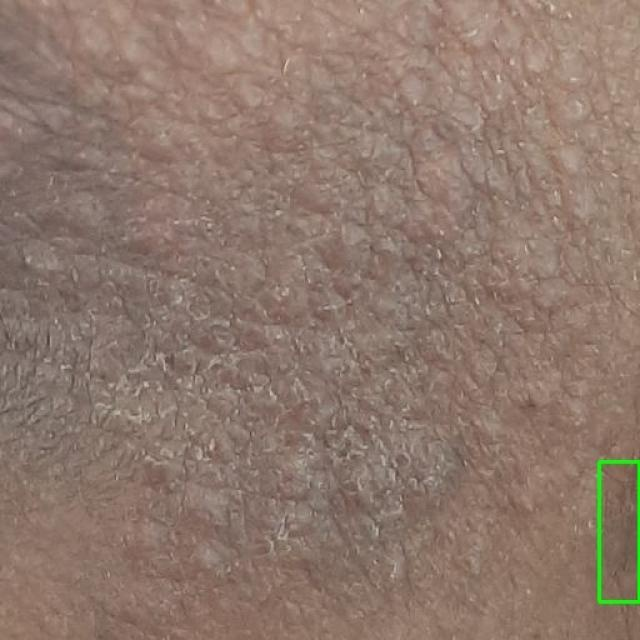Contact Dermatitis: (599, 461, 639, 601)
